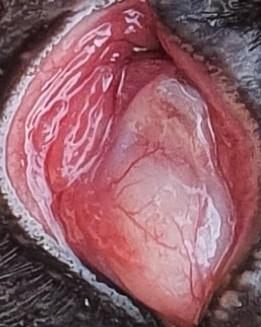eye_membrane: (3, 0, 257, 327)
